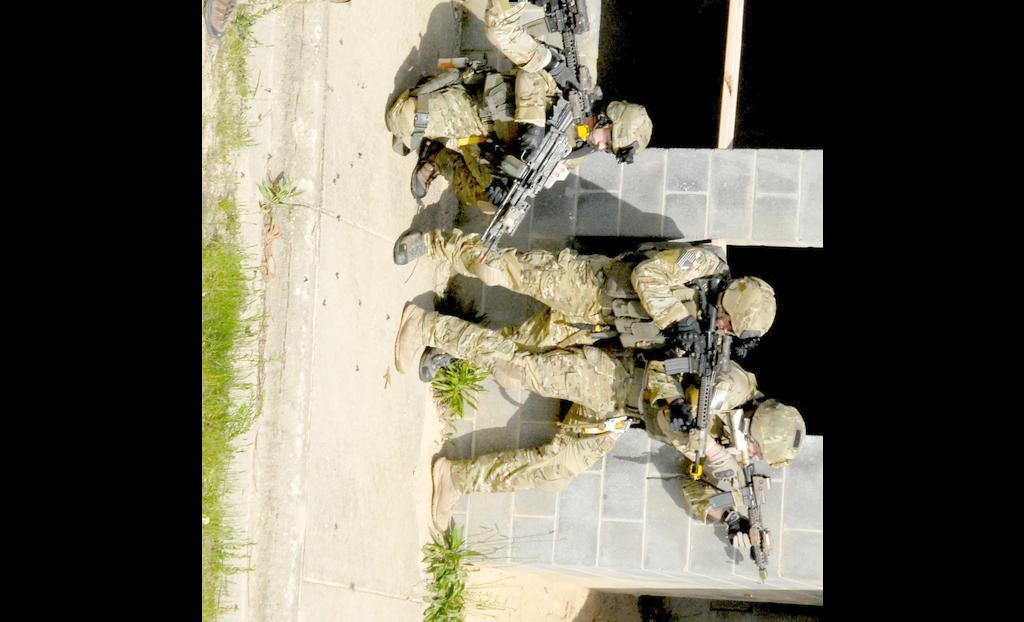gun: (477, 102, 575, 263), (663, 288, 729, 474), (708, 408, 773, 582), (526, 0, 591, 139)
